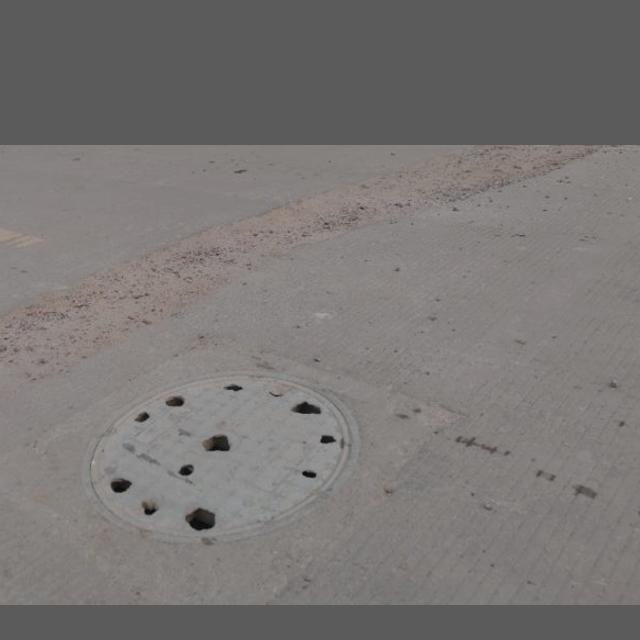broke: (81, 371, 358, 538)
